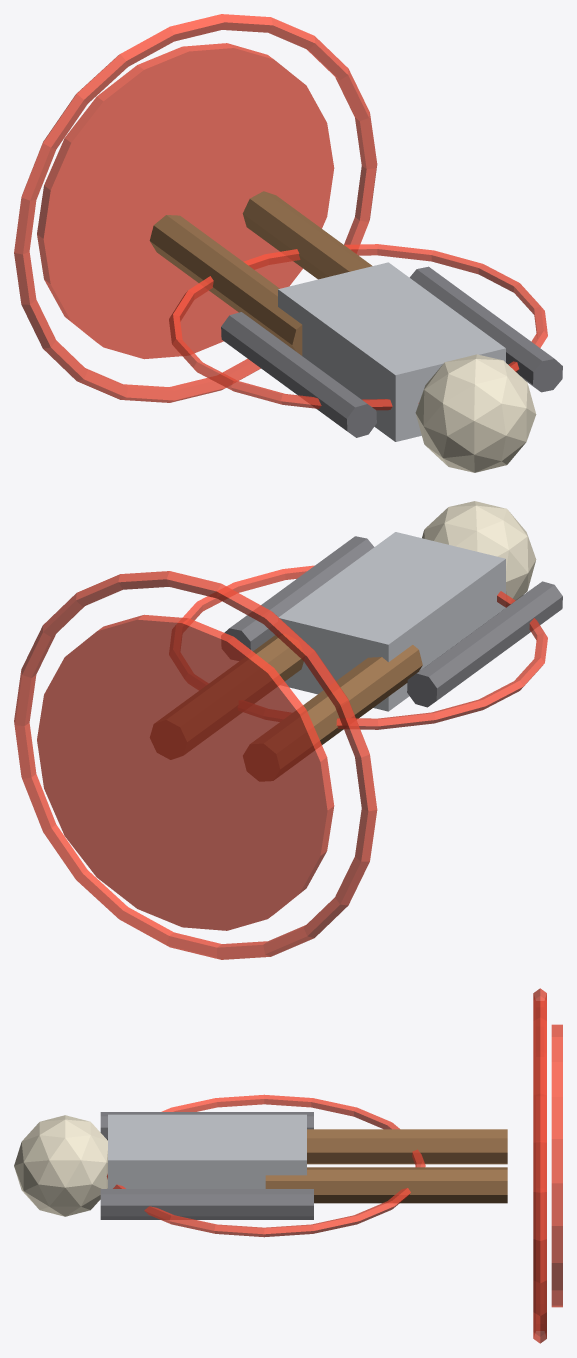
File: biped_idle_pose.glb
3 views of the same model, one above another, from view 1: azimuth 30°, elevation 25°; view 2: azimuth 150°, elevation 25°; view 3: azimuth 270°, elevation 25° (orthographic). The views are drawn at different scales.
Parts seen in each view (by area): view 1: marker_disc, torso, marker_ring, head, left_leg, motion_arc, left_arm, right_leg, right_arm; view 2: marker_disc, torso, marker_ring, left_leg, right_leg, left_arm, head, motion_arc, right_arm; view 3: torso, right_leg, head, left_leg, right_arm, motion_arc, marker_ring, marker_disc, left_arm.
Part boxes in pixels (x1,y1,x2,y2): marker_disc: (37,43,334,359); torso: (278,262,505,441); marker_ring: (14,14,377,402); head: (415,354,536,472); left_leg: (149,215,302,355); motion_arc: (169,244,547,410); left_arm: (221,312,376,437); right_leg: (242,191,372,279); right_arm: (409,266,562,392); marker_disc: (37,614,334,930); torso: (278,532,505,711); marker_ring: (14,571,377,959); left_leg: (243,645,422,780); right_leg: (150,634,304,759); left_arm: (407,581,562,707); head: (422,501,536,606); motion_arc: (179,565,547,729); right_arm: (221,536,374,660); torso: (108,1114,306,1188); right_leg: (265,1167,507,1203); head: (14,1115,107,1216); left_leg: (307,1129,507,1164); right_arm: (100,1189,313,1219); motion_arc: (106,1094,425,1237); marker_ring: (533,988,546,1343); marker_disc: (551,1024,562,1307); left_arm: (100,1112,313,1140).
Bounding box in the file's own units: 1.25 × 1.24 × 1.93.
